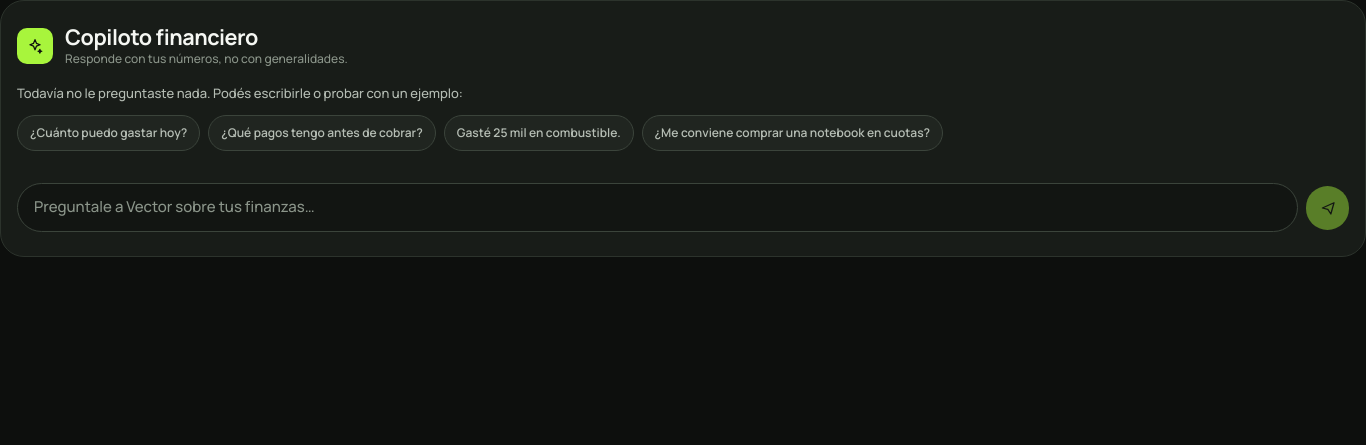
Test: copiloto: aviso de cuota › avisa cuántas consultas quedan después de responder
Click the button "¿Cuánto puedo gastar hoy?".
click(109, 133)  # box 17,115 -> 200,151
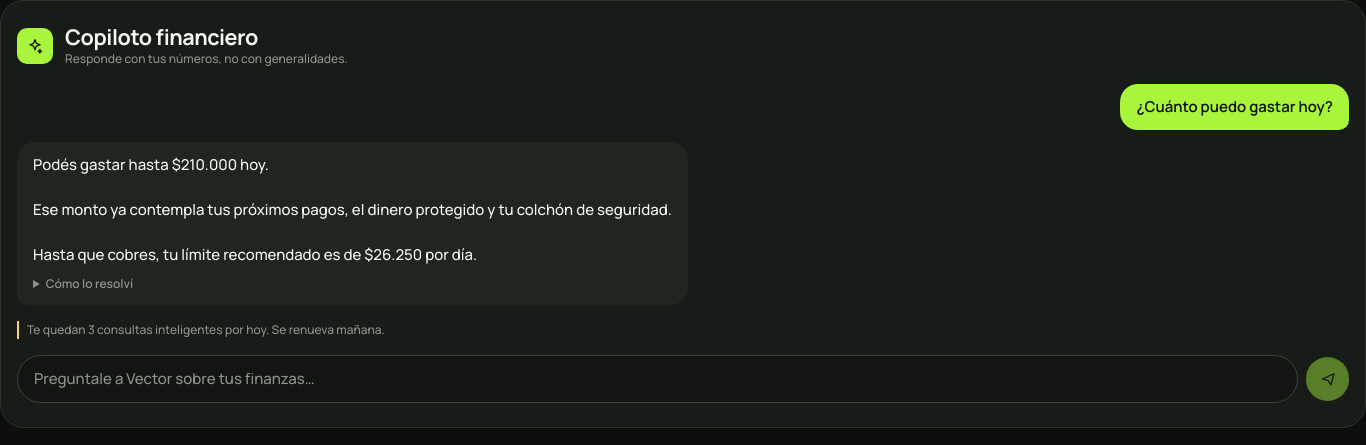
Result: the message shows "Te quedan 3 consultas inteligentes por hoy." at 27,321 -> 269,338
